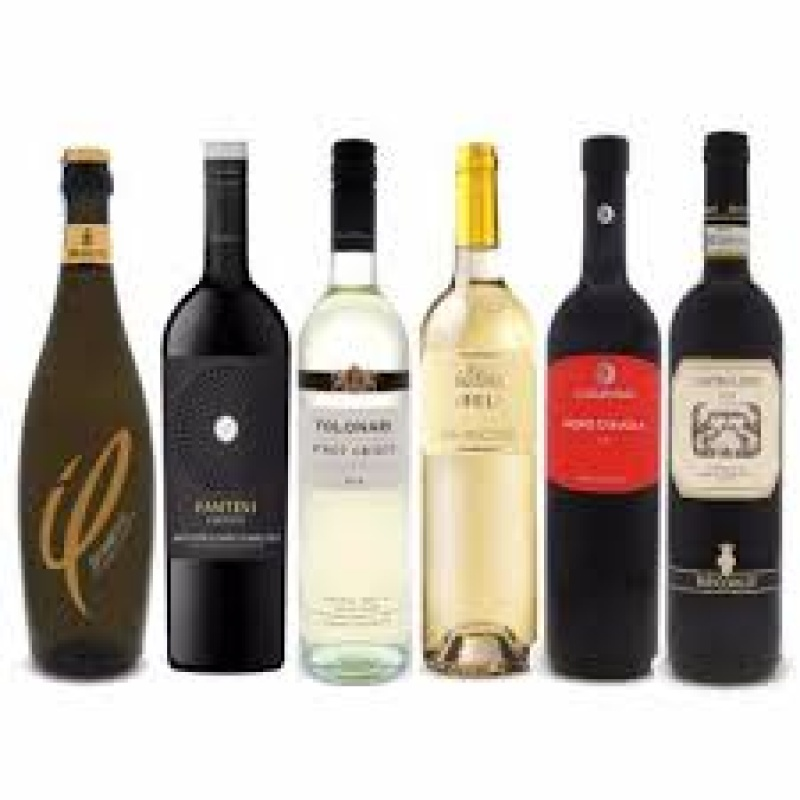wine: (417, 139, 552, 683), (160, 139, 289, 681), (21, 144, 148, 678), (670, 130, 783, 687), (558, 138, 660, 682)
